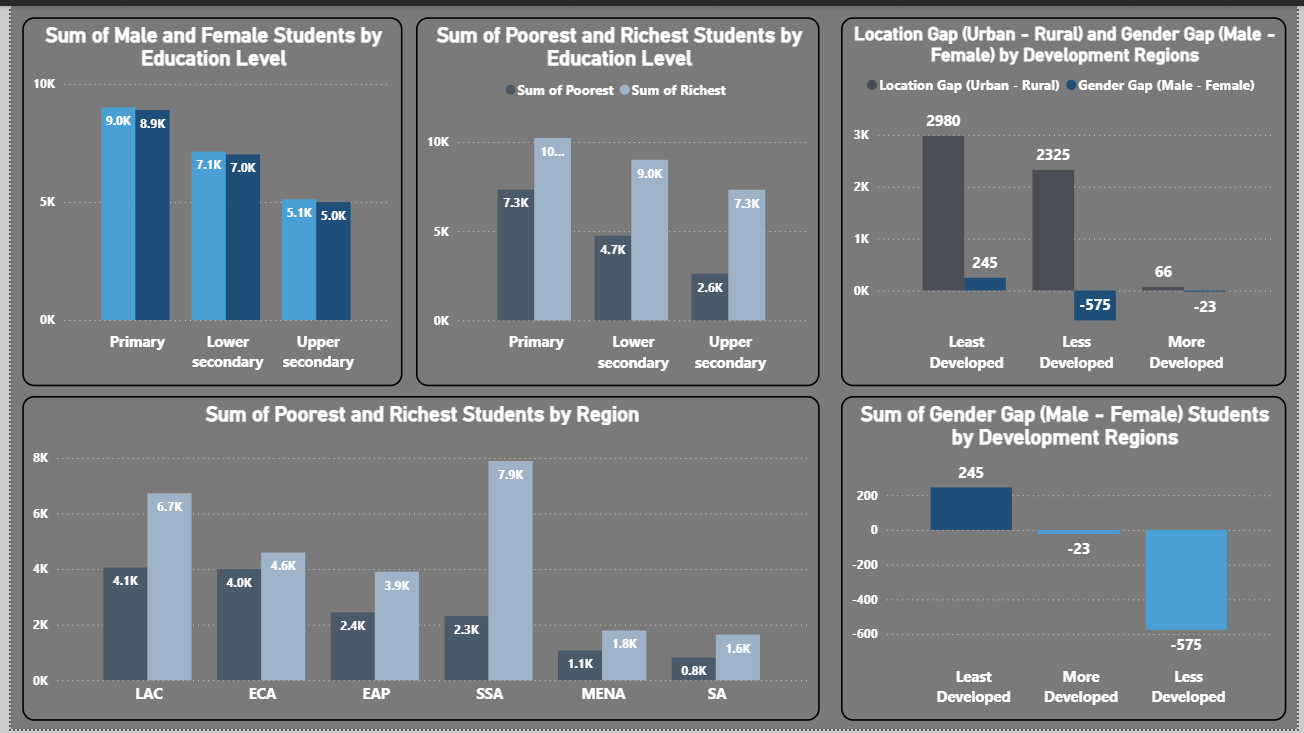

What the dashboard file says about the page in this screenshot:
{"tool":"powerbi","page":{"name":"Page 5","canvas":[1280,720],"ordinal":4},"visuals":[{"type":"clusteredColumnChart","title":"Sum of Male and Female Students by Education Level","fields":{"Category":["AllLevels.Education Level"],"Y":["Sum(AllLevels.Female)","Sum(AllLevels.Male)"]},"box":[11.2,11.2,378.2,367],"z":0},{"type":"clusteredColumnChart","title":"Sum of Poorest and Richest Students by Education Level","fields":{"Category":["AllLevels.Education Level"],"Y":["Sum(AllLevels.Poorest)","Sum(AllLevels.Richest)"]},"box":[403,11.2,401.8,367],"z":1000},{"type":"clusteredColumnChart","fields":{"Y":["Sum(AllLevels.Location Gap)","Sum(AllLevels.Gender Gap)"],"Category":["AllLevels.Development Regions"]},"box":[826,11.2,442.8,367],"z":2000},{"type":"clusteredColumnChart","title":"Sum of Poorest and Richest Students by Region","fields":{"Category":["AllLevels.Region"],"Y":["Sum(AllLevels.Poorest)","Sum(AllLevels.Richest)"]},"box":[11.2,388.1,793.6,323.4],"z":3000},{"type":"clusteredColumnChart","title":"Sum of Gender Gap (Male - Female) Students by Development Regions","fields":{"Category":["AllLevels.Development Regions"],"Y":["Sum(AllLevels.Gender Gap)"]},"box":[826,388.1,442.8,323.4],"z":4000}]}

Visuals, with their boxes in screenshot pixels (x1, y1, x2, y2), scaled from the page's 1280x720 canvas onto the 1304x733 screenshot:
"Sum of Male and Female Students by Education Level" clusteredColumnChart: 11 11 397 385
"Sum of Poorest and Richest Students by Education Level" clusteredColumnChart: 411 11 820 385
clusteredColumnChart - Sum(AllLevels.Location Gap) x Sum(AllLevels.Gender Gap): 841 11 1293 385
"Sum of Poorest and Richest Students by Region" clusteredColumnChart: 11 395 820 724
"Sum of Gender Gap (Male - Female) Students by Development Regions" clusteredColumnChart: 841 395 1293 724
